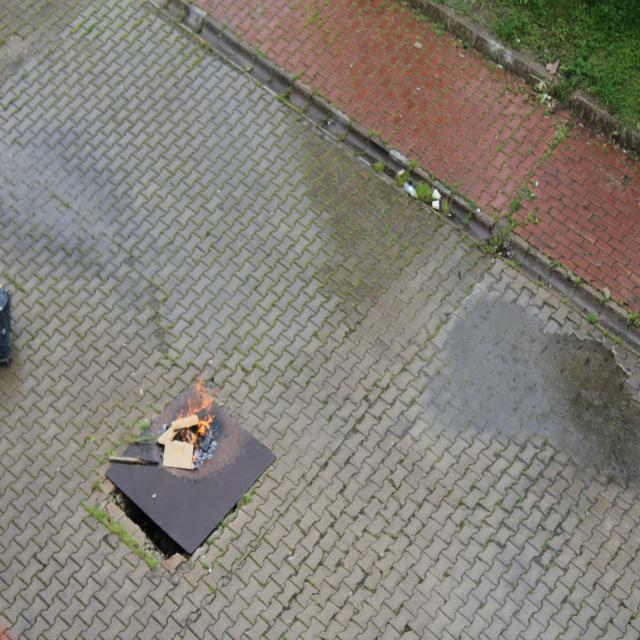fire: (174, 367, 218, 452)
